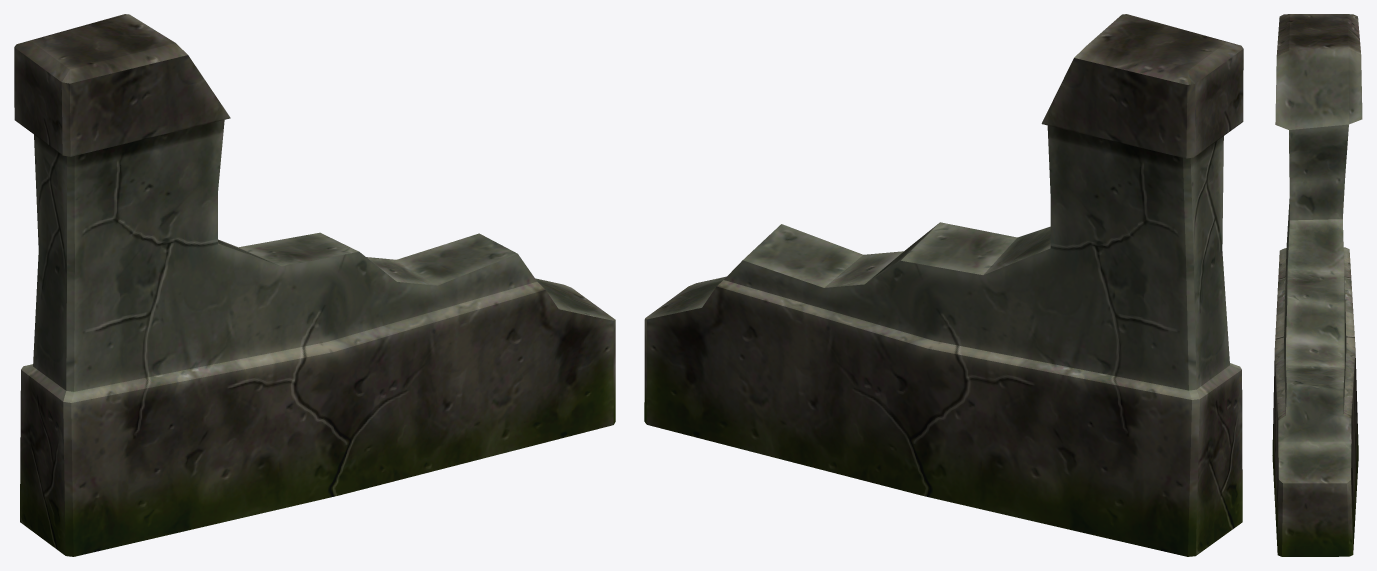
The model's file is WallBreak01.FBX.
3 views of the same model, side by side, from view 1: azimuth 30°, elevation 25°; view 2: azimuth 150°, elevation 25°; view 3: azimuth 270°, elevation 25° (orthographic). The views are drawn at different scales.
Parts seen in each view (by area): view 1: WallBreak01; view 2: WallBreak01; view 3: WallBreak01.
Boxes of the visible parts, x1,y1,x2,y2 form: WallBreak01: (14, 14, 615, 556); WallBreak01: (644, 14, 1243, 556); WallBreak01: (1272, 14, 1362, 556).
Size of the model in its own units: 69.61 by 57.86 by 13.43.
